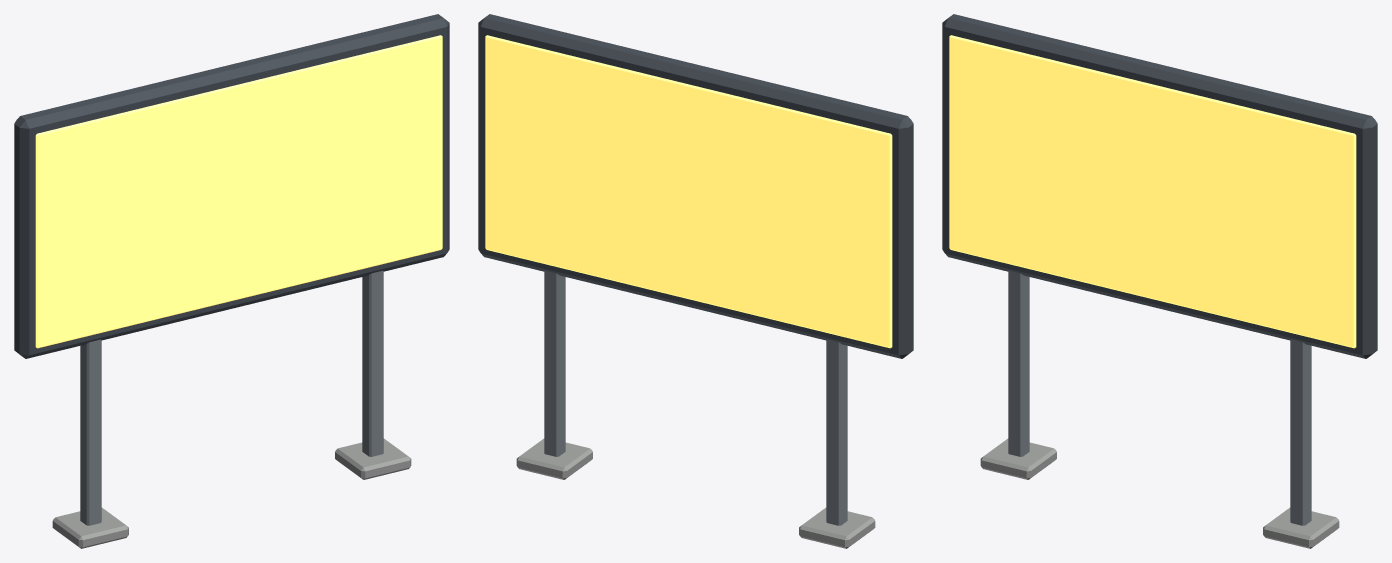
File: la-billboard-large.glb
The picture shows the model from 3 angles, left to right: view 1: azimuth 30°, elevation 25°; view 2: azimuth 150°, elevation 25°; view 3: azimuth 330°, elevation 25°; orthographic projection.
Parts seen in each view (by area): view 1: AD_SURFACE_BILLBOARD_FRONT, Billboard_Frame, Billboard_Post, Billboard_Post.001, Billboard_Foot.001, Billboard_Foot; view 2: AD_SURFACE_BILLBOARD_BACK, Billboard_Frame, Billboard_Post, Billboard_Post.001, Billboard_Foot.001, Billboard_Foot; view 3: AD_SURFACE_BILLBOARD_FRONT, Billboard_Frame, Billboard_Post.001, Billboard_Post, Billboard_Foot, Billboard_Foot.001.
Part boxes in pixels (x1,y1,x2,y2): AD_SURFACE_BILLBOARD_FRONT: [35, 35, 442, 348]; Billboard_Frame: [14, 14, 449, 358]; Billboard_Post: [80, 339, 101, 525]; Billboard_Post.001: [362, 270, 383, 456]; Billboard_Foot.001: [335, 438, 411, 479]; Billboard_Foot: [52, 507, 128, 548]; AD_SURFACE_BILLBOARD_BACK: [485, 35, 892, 348]; Billboard_Frame: [478, 14, 913, 358]; Billboard_Post: [826, 339, 847, 525]; Billboard_Post.001: [544, 270, 565, 456]; Billboard_Foot.001: [516, 438, 592, 479]; Billboard_Foot: [799, 507, 875, 548]; AD_SURFACE_BILLBOARD_FRONT: [949, 35, 1356, 348]; Billboard_Frame: [942, 14, 1377, 358]; Billboard_Post.001: [1290, 339, 1311, 525]; Billboard_Post: [1008, 270, 1029, 456]; Billboard_Foot: [980, 438, 1056, 479]; Billboard_Foot.001: [1263, 507, 1339, 548].
Size of the model in its own units: 6.4 by 6.15 by 0.75.
